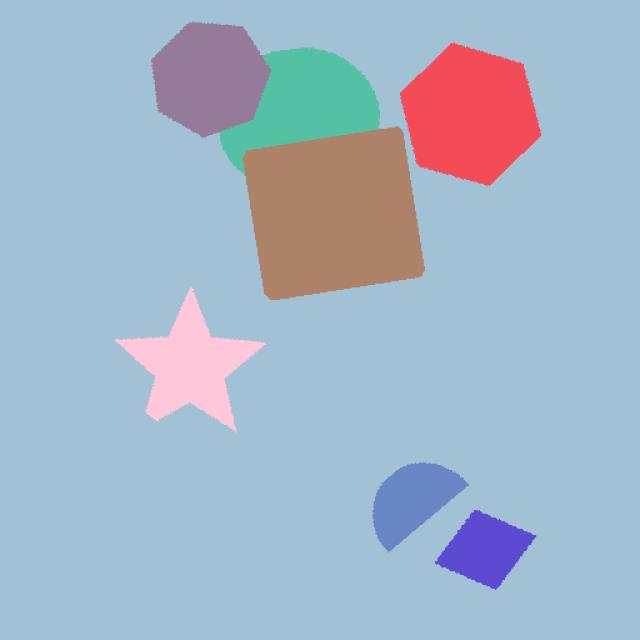Circle: (208, 40, 394, 192)
Heptagon: (143, 10, 281, 147)
Hexagon: (386, 38, 567, 190)
Kite: (429, 503, 542, 594)
Semicircle: (370, 458, 470, 557)
Star: (107, 278, 264, 443)
square: (239, 125, 435, 299)
